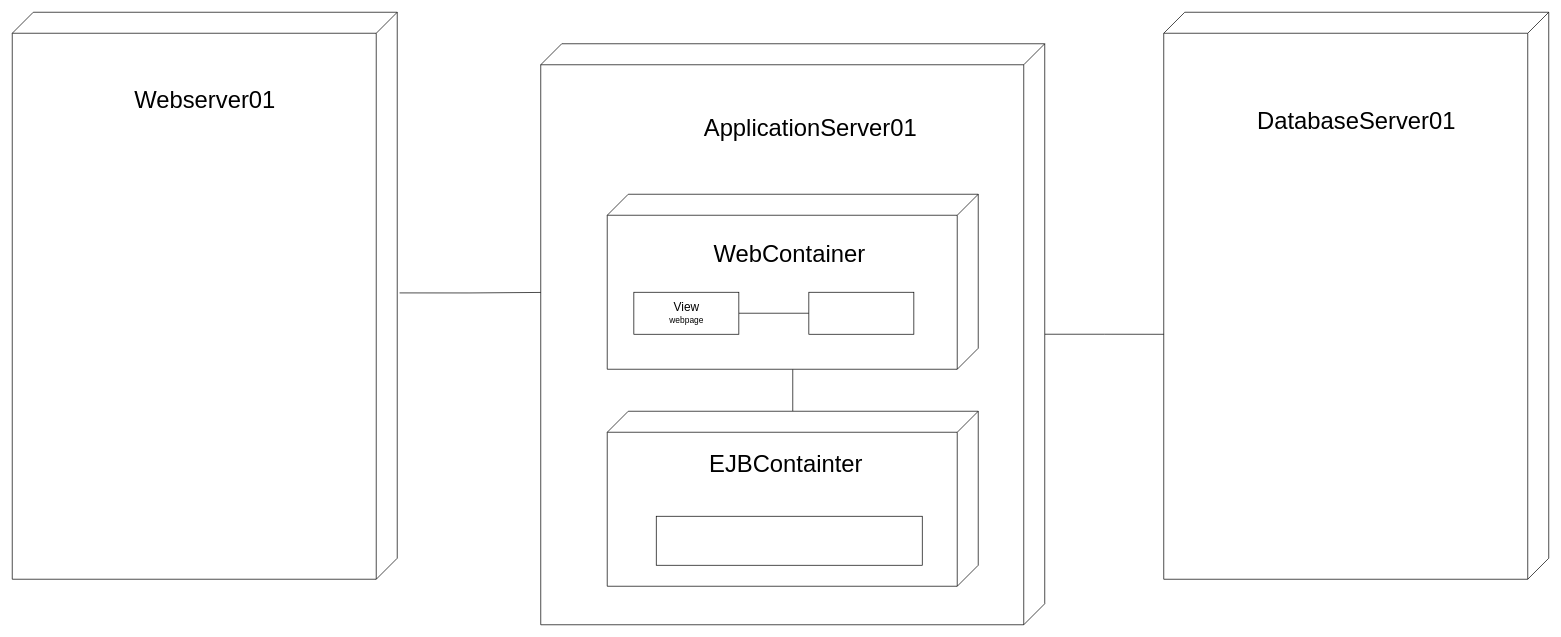
The diagram is 1561 pixels wide and 637 high, and some of its shapes have lost their labels. The shapes that lost their labels are listed below. From the top down, each one's centre as x and y in pixels, then its label:
the point at 861,313: Controller
the point at 789,540: Model
